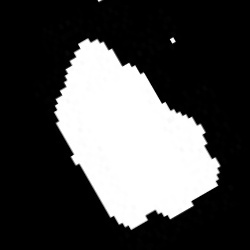pinhole: (170, 38, 175, 46)
spot: (54, 38, 221, 230)
